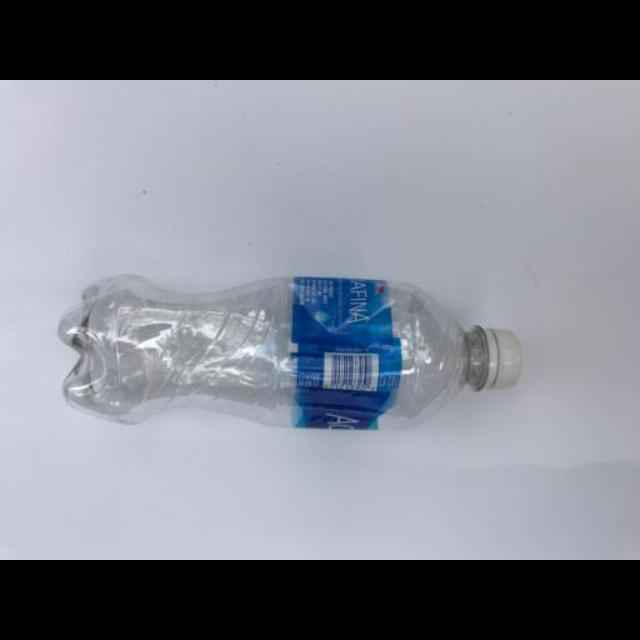garrafa plástica: (56, 272, 472, 436)
tampa plástica: (476, 329, 524, 391)
